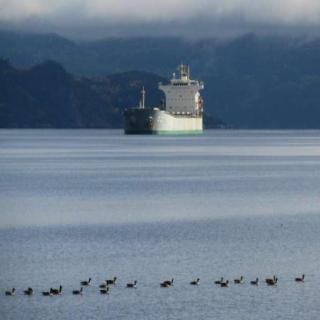Bulk Carrier: (123, 61, 206, 134)
